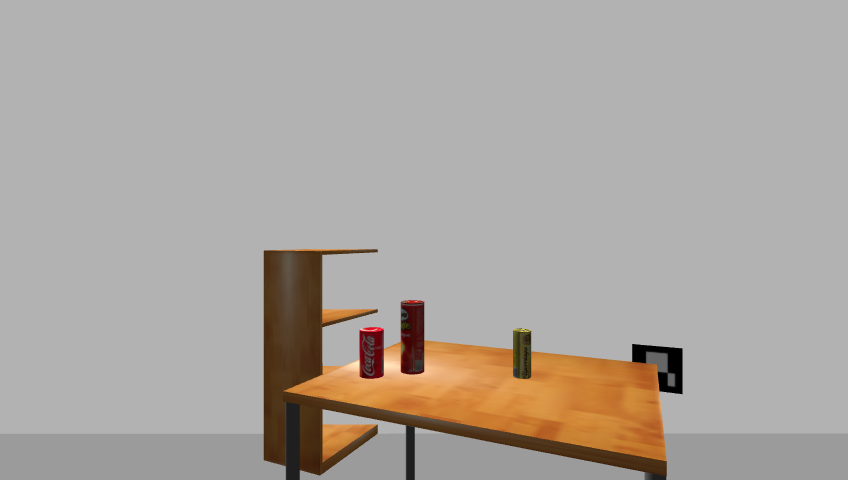aruco marker: (626, 342, 687, 396)
biscuits pack: (512, 328, 533, 380)
bookshelf: (259, 245, 384, 479)
coke can: (357, 326, 385, 380)
dinner table: (277, 339, 675, 480)
pringles can: (398, 300, 427, 376)
